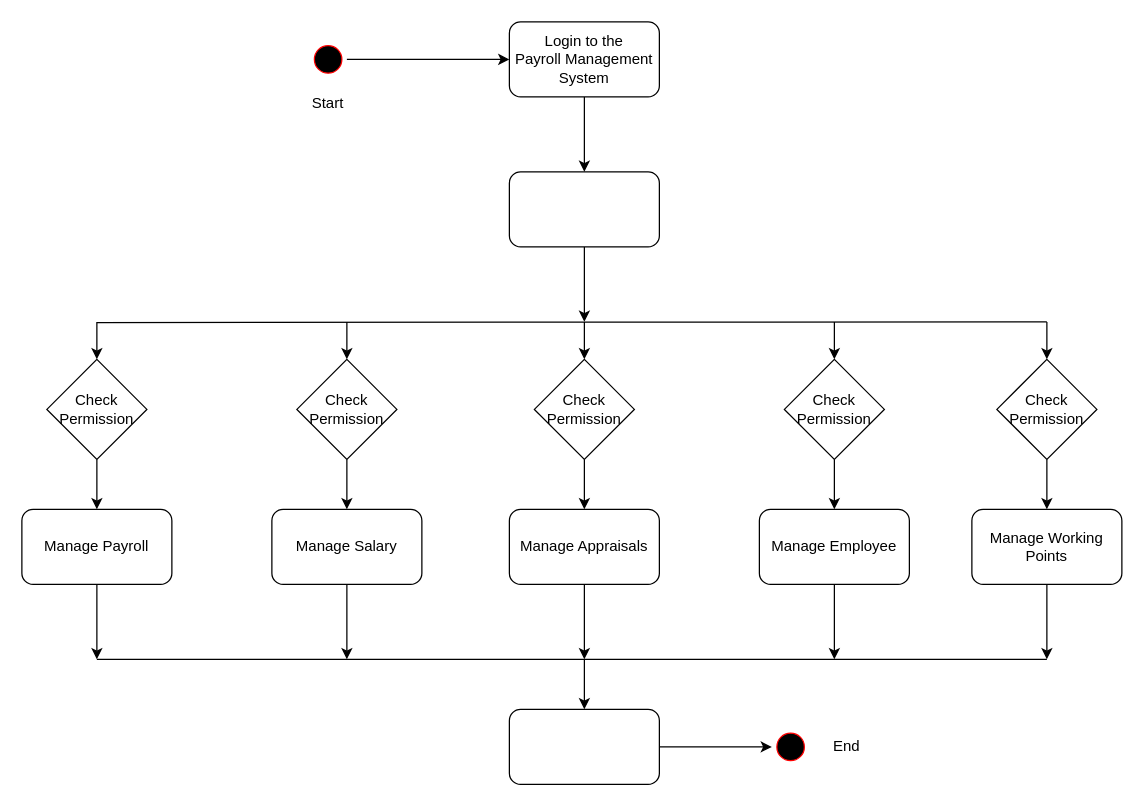
The diagram is 1144 pixels wide and 806 high, and some of its shapes have lost their labels. Here are the shapes that lost their labels. From the top down, the centre of each, then its label:
At (x=583, y=209): "Check User Level and Permissions".
At (x=583, y=746): "Logout From the System".
